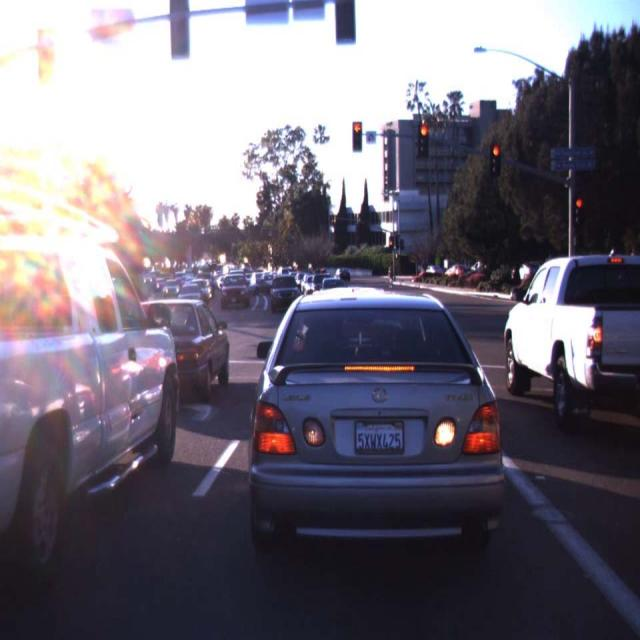kirmizi: (573, 195, 583, 229), (418, 125, 428, 156), (490, 145, 500, 176)
